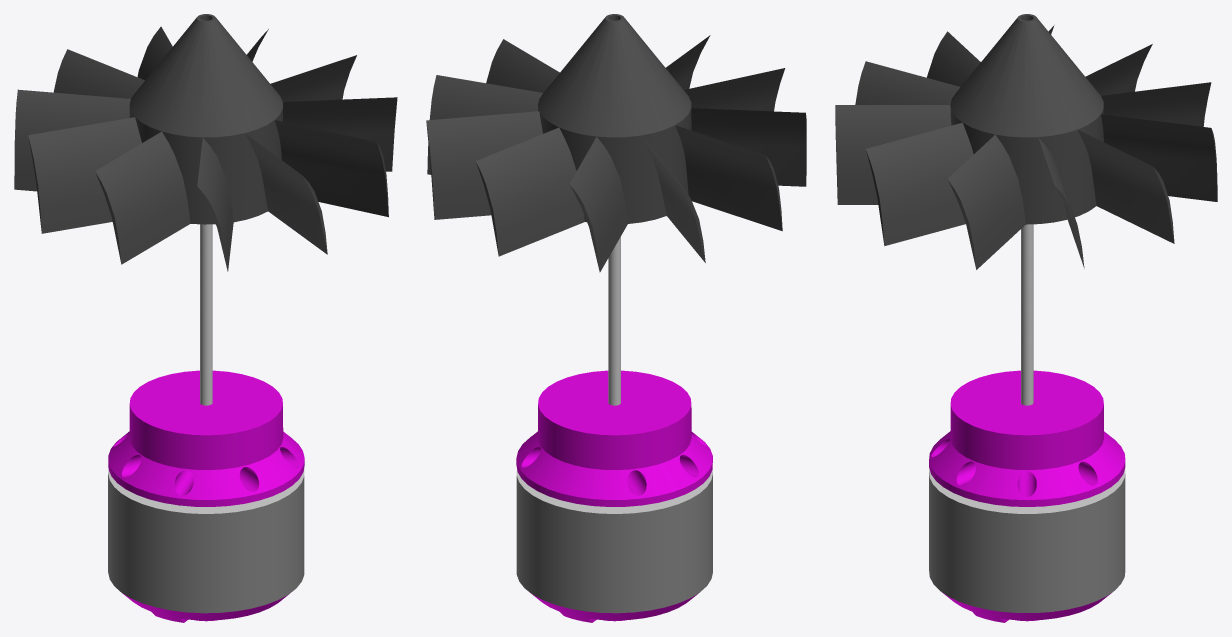
File: 50mm_blade_motor_z.dae
The picture shows the model from 3 angles, left to right: view 1: azimuth 30°, elevation 25°; view 2: azimuth 150°, elevation 25°; view 3: azimuth 270°, elevation 25°; orthographic projection.
Visible parts, largest first — view 1: 50mm_blade_motor; view 2: 50mm_blade_motor; view 3: 50mm_blade_motor.
Part boxes in pixels (bbox=[...]): 50mm_blade_motor: bbox=[14, 14, 397, 622]; 50mm_blade_motor: bbox=[426, 14, 806, 622]; 50mm_blade_motor: bbox=[835, 14, 1217, 622].
Size of the model in its own units: 0.0497 by 0.0498 by 0.0845.
